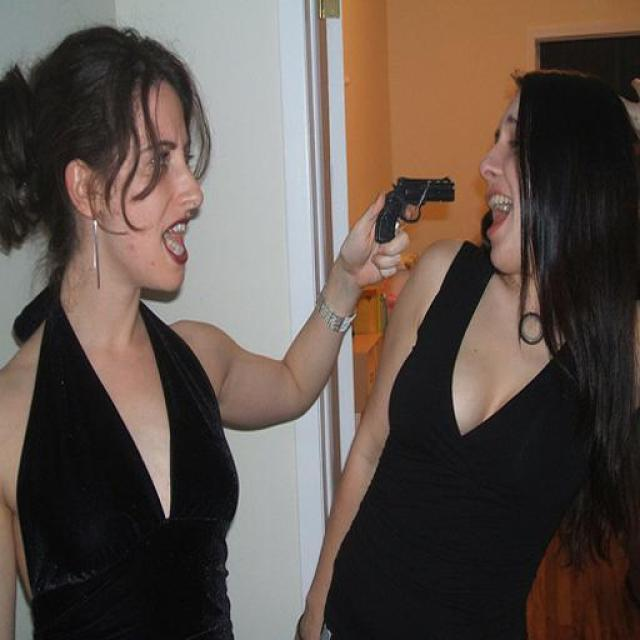pistol: (375, 170, 454, 249)
